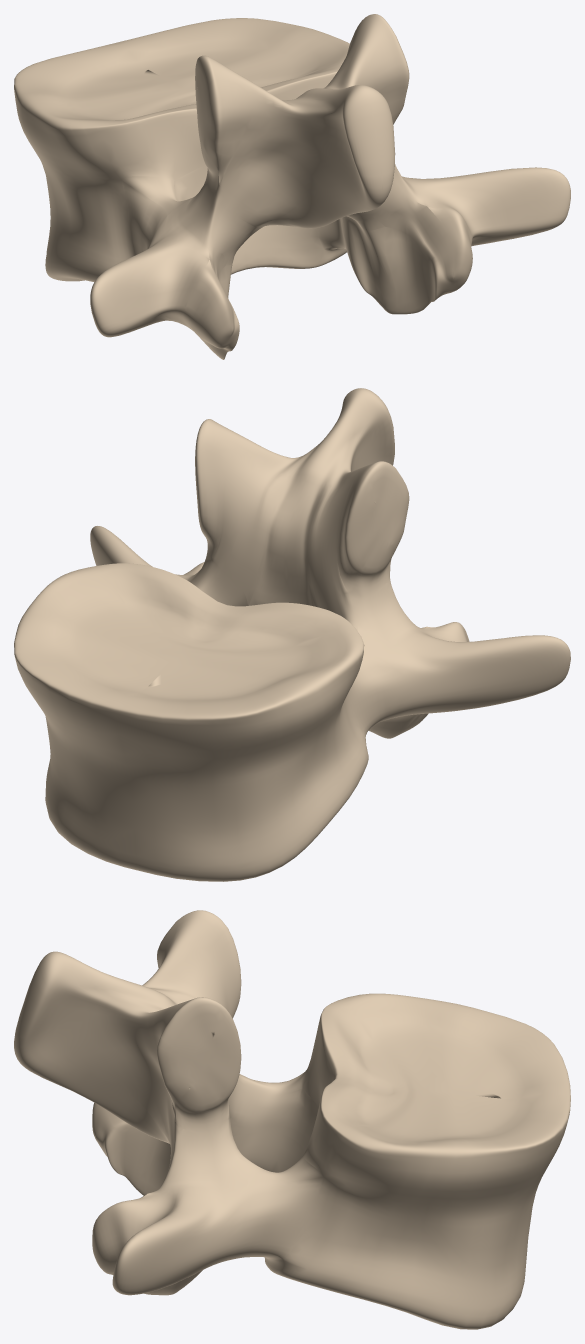
3 renders of one model, top to bottom at view 1: azimuth 30°, elevation 25°; view 2: azimuth 150°, elevation 25°; view 3: azimuth 270°, elevation 25°, orthographic. The views are drawn at different scales.
Visible parts, largest first — view 1: L2; view 2: L2; view 3: L2.
Part boxes in pixels (x1,y1,x2,y2): L2: (14,14,570,359); L2: (14,388,570,881); L2: (14,910,570,1329).
Size of the model in its own units: 87.45 by 55.98 by 84.86.
